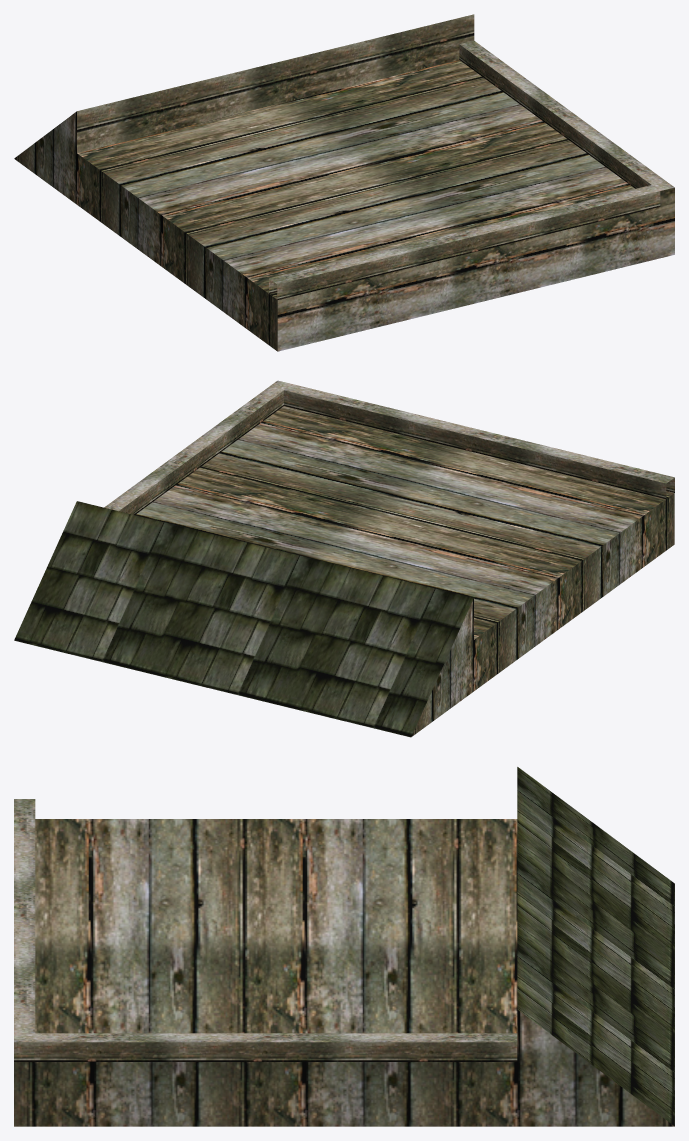
File: HouseWall06.obj
The picture shows the model from 3 angles, top to bottom: view 1: azimuth 30°, elevation 25°; view 2: azimuth 150°, elevation 25°; view 3: azimuth 270°, elevation 25°; orthographic projection. The views are drawn at different scales.
Visible parts, largest first — view 1: Mesh_0; view 2: Mesh_0, Mesh_1; view 3: Mesh_0, Mesh_1.
Boxes of the visible parts, bbox=[...] form: Mesh_0: bbox=[14, 14, 674, 351]; Mesh_0: bbox=[104, 380, 674, 736]; Mesh_1: bbox=[14, 501, 473, 737]; Mesh_0: bbox=[14, 799, 674, 1126]; Mesh_1: bbox=[517, 767, 674, 1126].
Size of the model in its own units: 4 by 0.9004 by 4.6.
2 materials, 2 textured.
